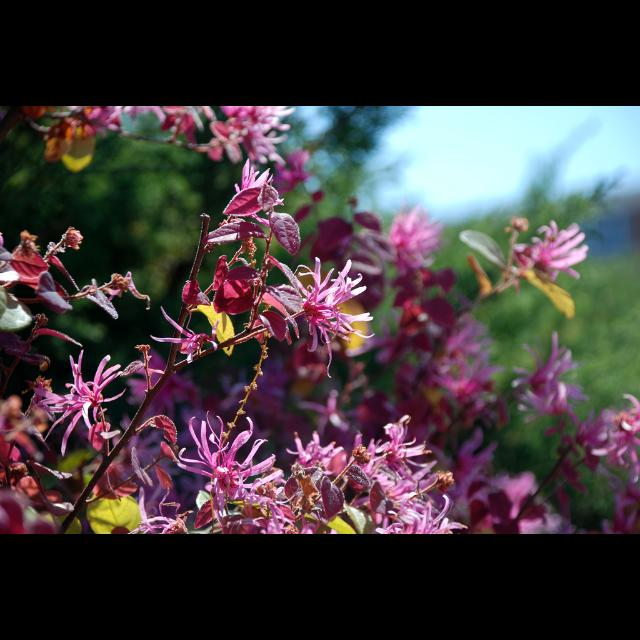Flower: (1, 106, 640, 534), (270, 250, 368, 354)
